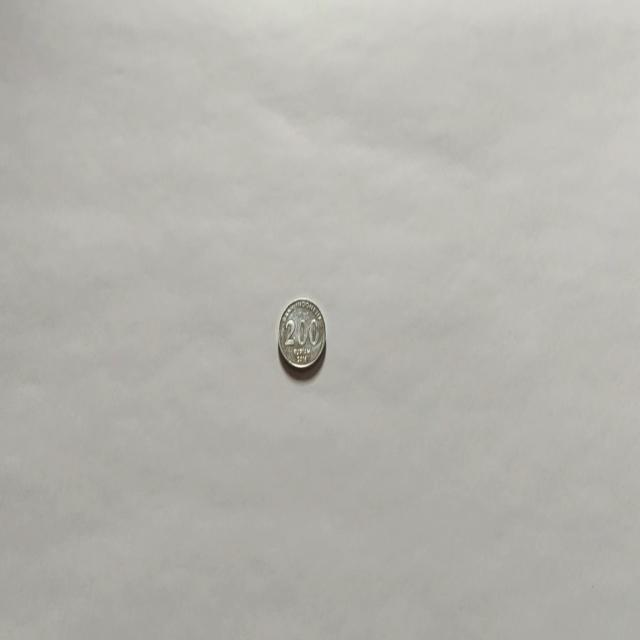dua ratus rupiah: (276, 296, 326, 374)
